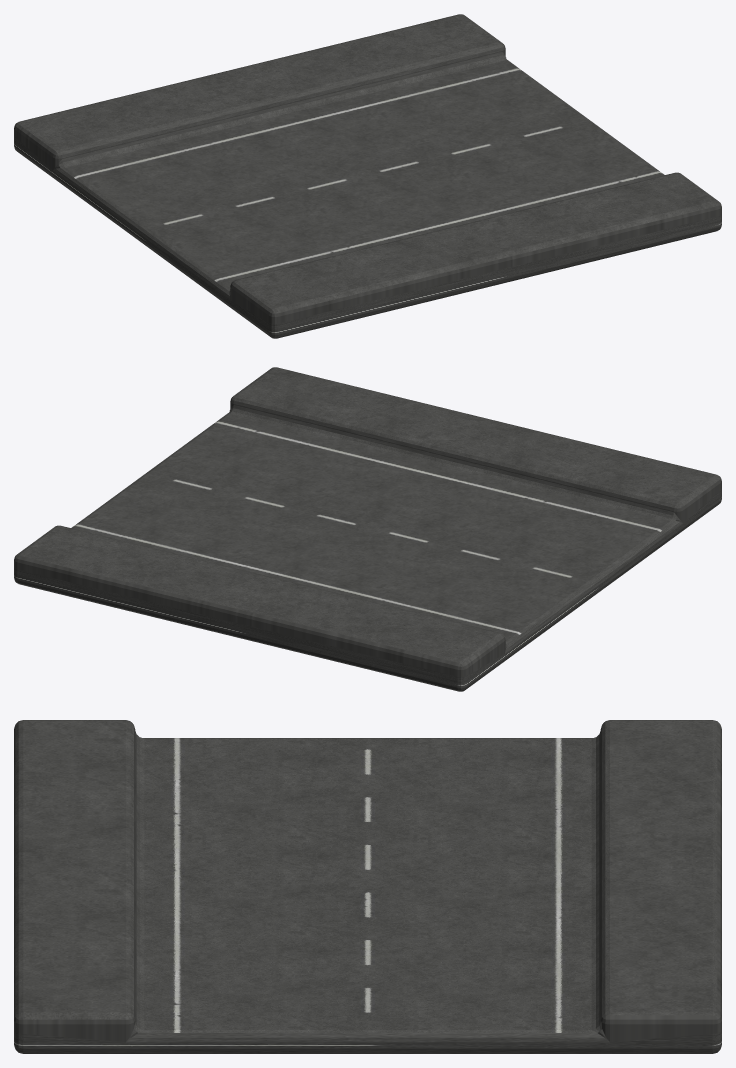
File: DrogaProsta_v3 1.fbx
3 renders of one model, top to bottom at view 1: azimuth 30°, elevation 25°; view 2: azimuth 150°, elevation 25°; view 3: azimuth 270°, elevation 25°, orthographic. The views are drawn at different scales.
Visible parts, largest first — view 1: Cube; view 2: Cube; view 3: Cube.
Boxes of the visible parts, x1,y1,x2,y2 form: Cube: (14, 14, 721, 338); Cube: (14, 367, 721, 691); Cube: (14, 720, 721, 1053).
Size of the model in its own units: 200 by 12.75 by 200.
